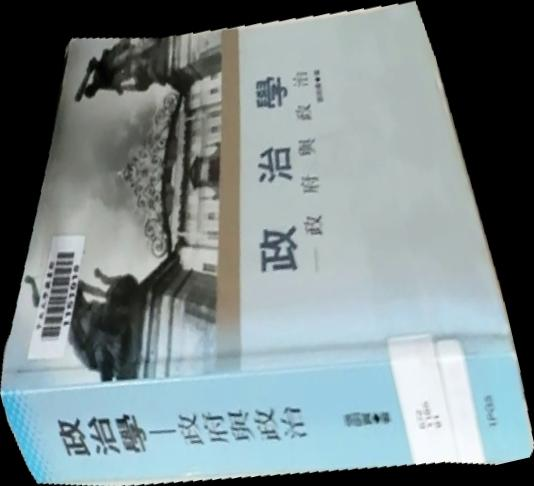flat: (1, 1, 534, 486)
